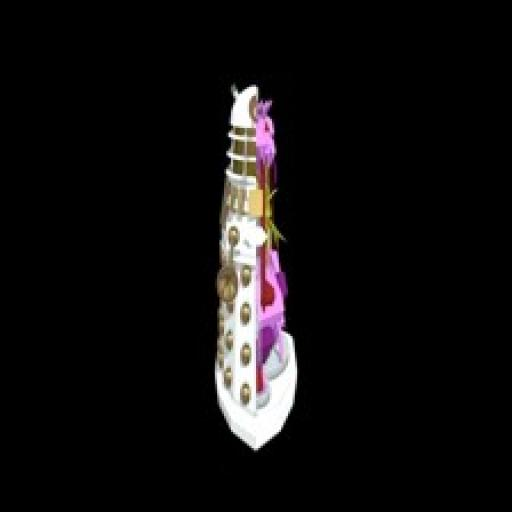dalek: (205, 78, 299, 450)
